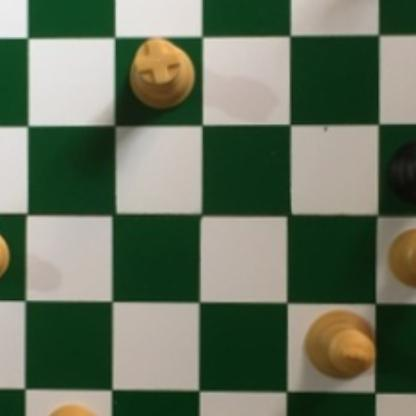black-bishop: (386, 139, 416, 208)
white-king: (302, 306, 379, 382)
white-pawn: (386, 226, 416, 290), (0, 222, 16, 290), (37, 400, 105, 416)
white-rook: (124, 36, 194, 112)
